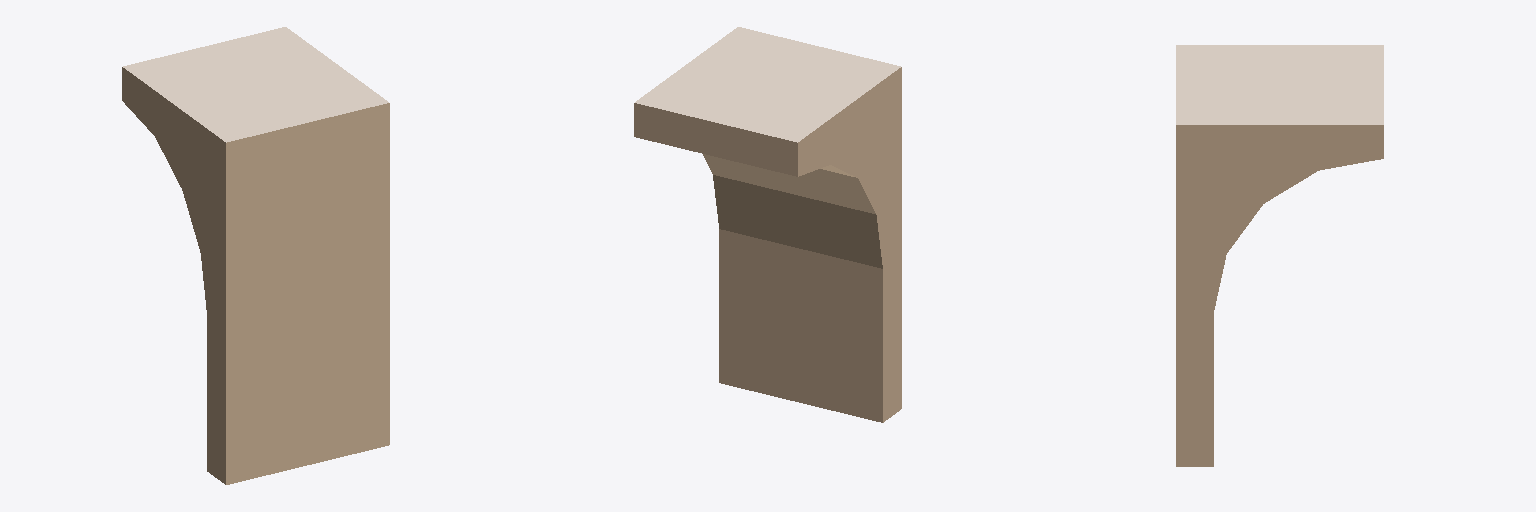
Rendered from Wall_Arch_Straight.obj.
3 views of the same model, side by side, from view 1: azimuth 30°, elevation 25°; view 2: azimuth 150°, elevation 25°; view 3: azimuth 270°, elevation 25° (orthographic).
Visible parts, largest first — view 1: object1; view 2: object1; view 3: object1.
Boxes of the visible parts, box(x1,y1,x2,y2) form: object1: box(122, 27, 389, 484); object1: box(634, 27, 901, 422); object1: box(1176, 45, 1383, 466).
Size of the model in its own units: 1 by 2 by 1.1.